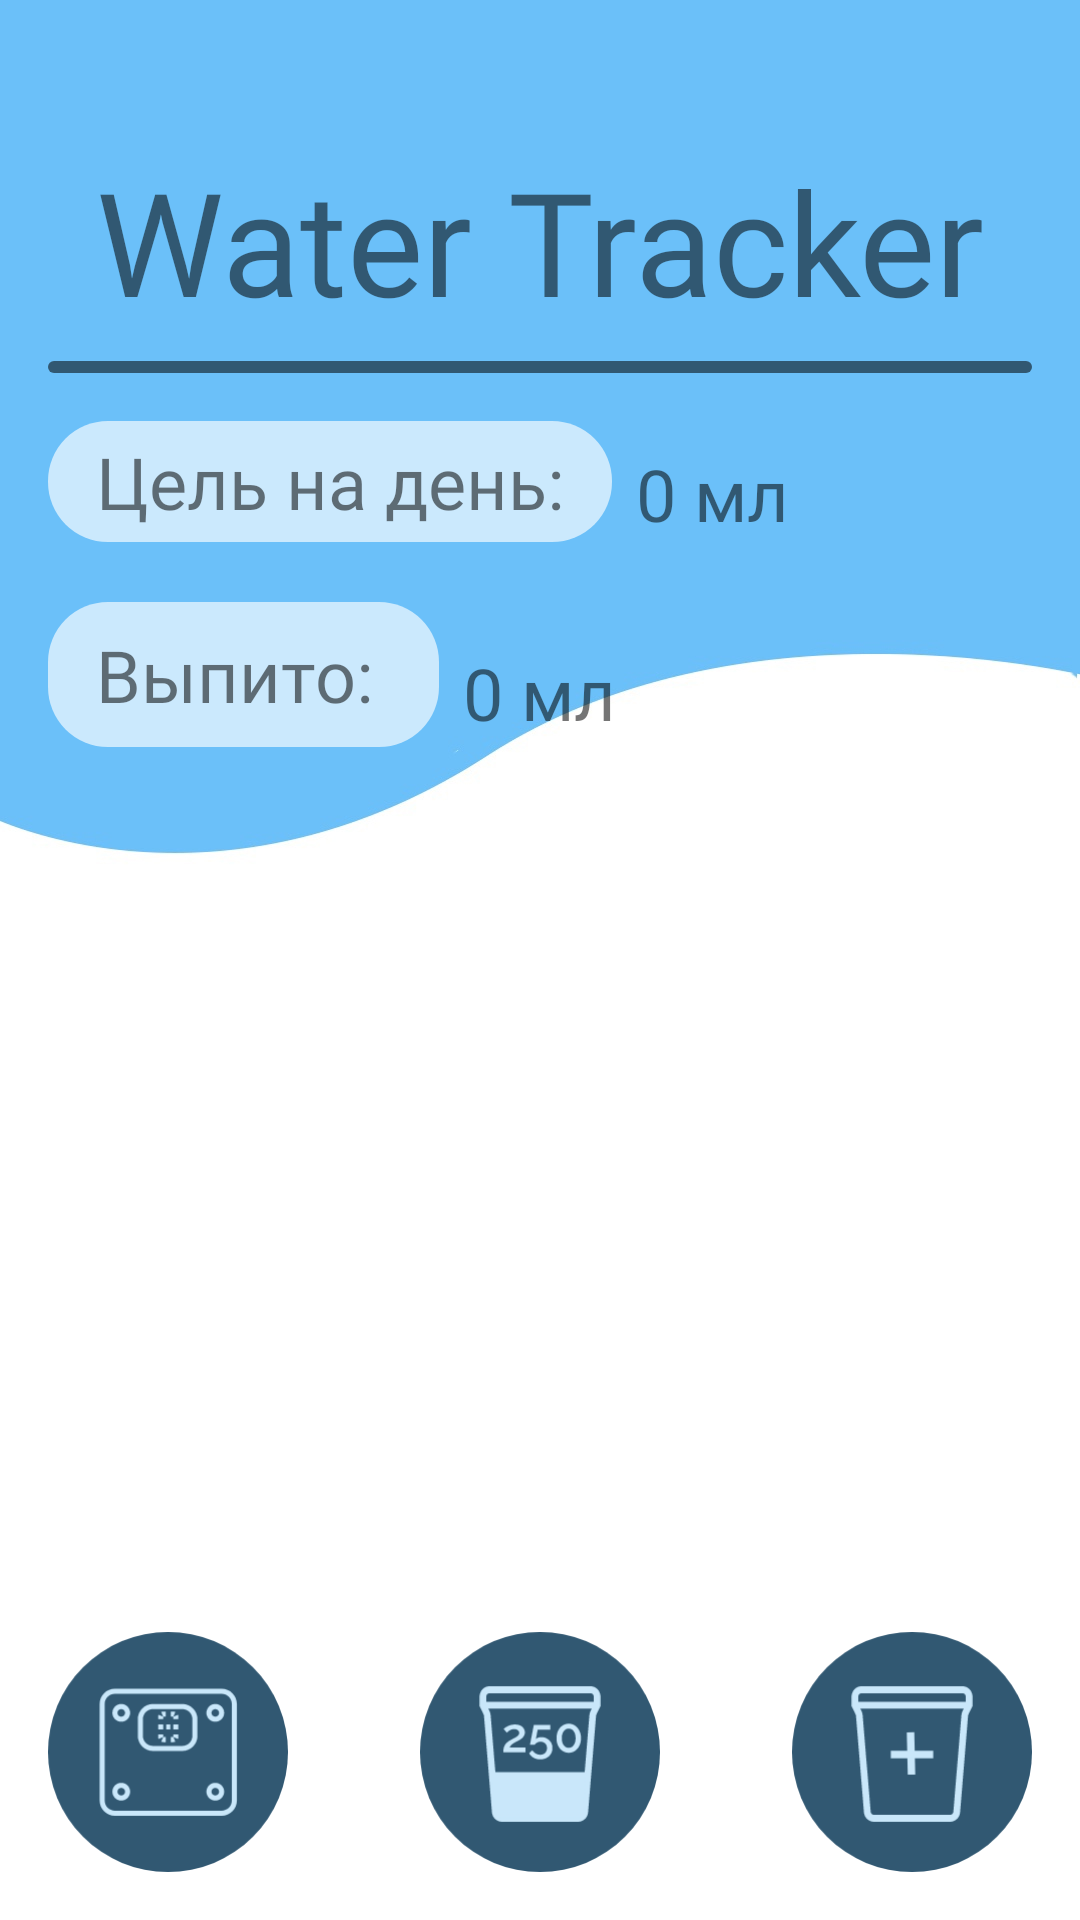

Icons on this 1080w x 1920h Android screen, each with the point to tap as (x=x, y=y):
scalers: (x=168, y=1752)
water add: (x=912, y=1752)
